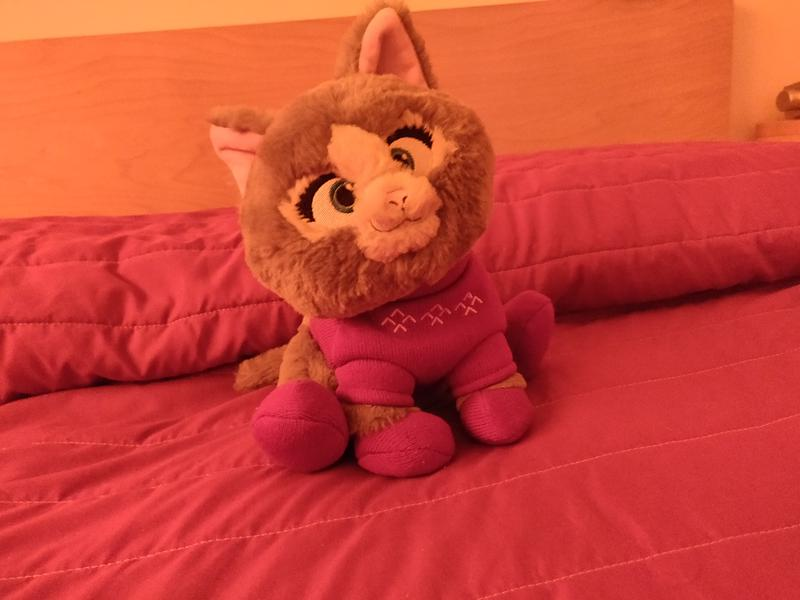kitten: (181, 1, 573, 488)
